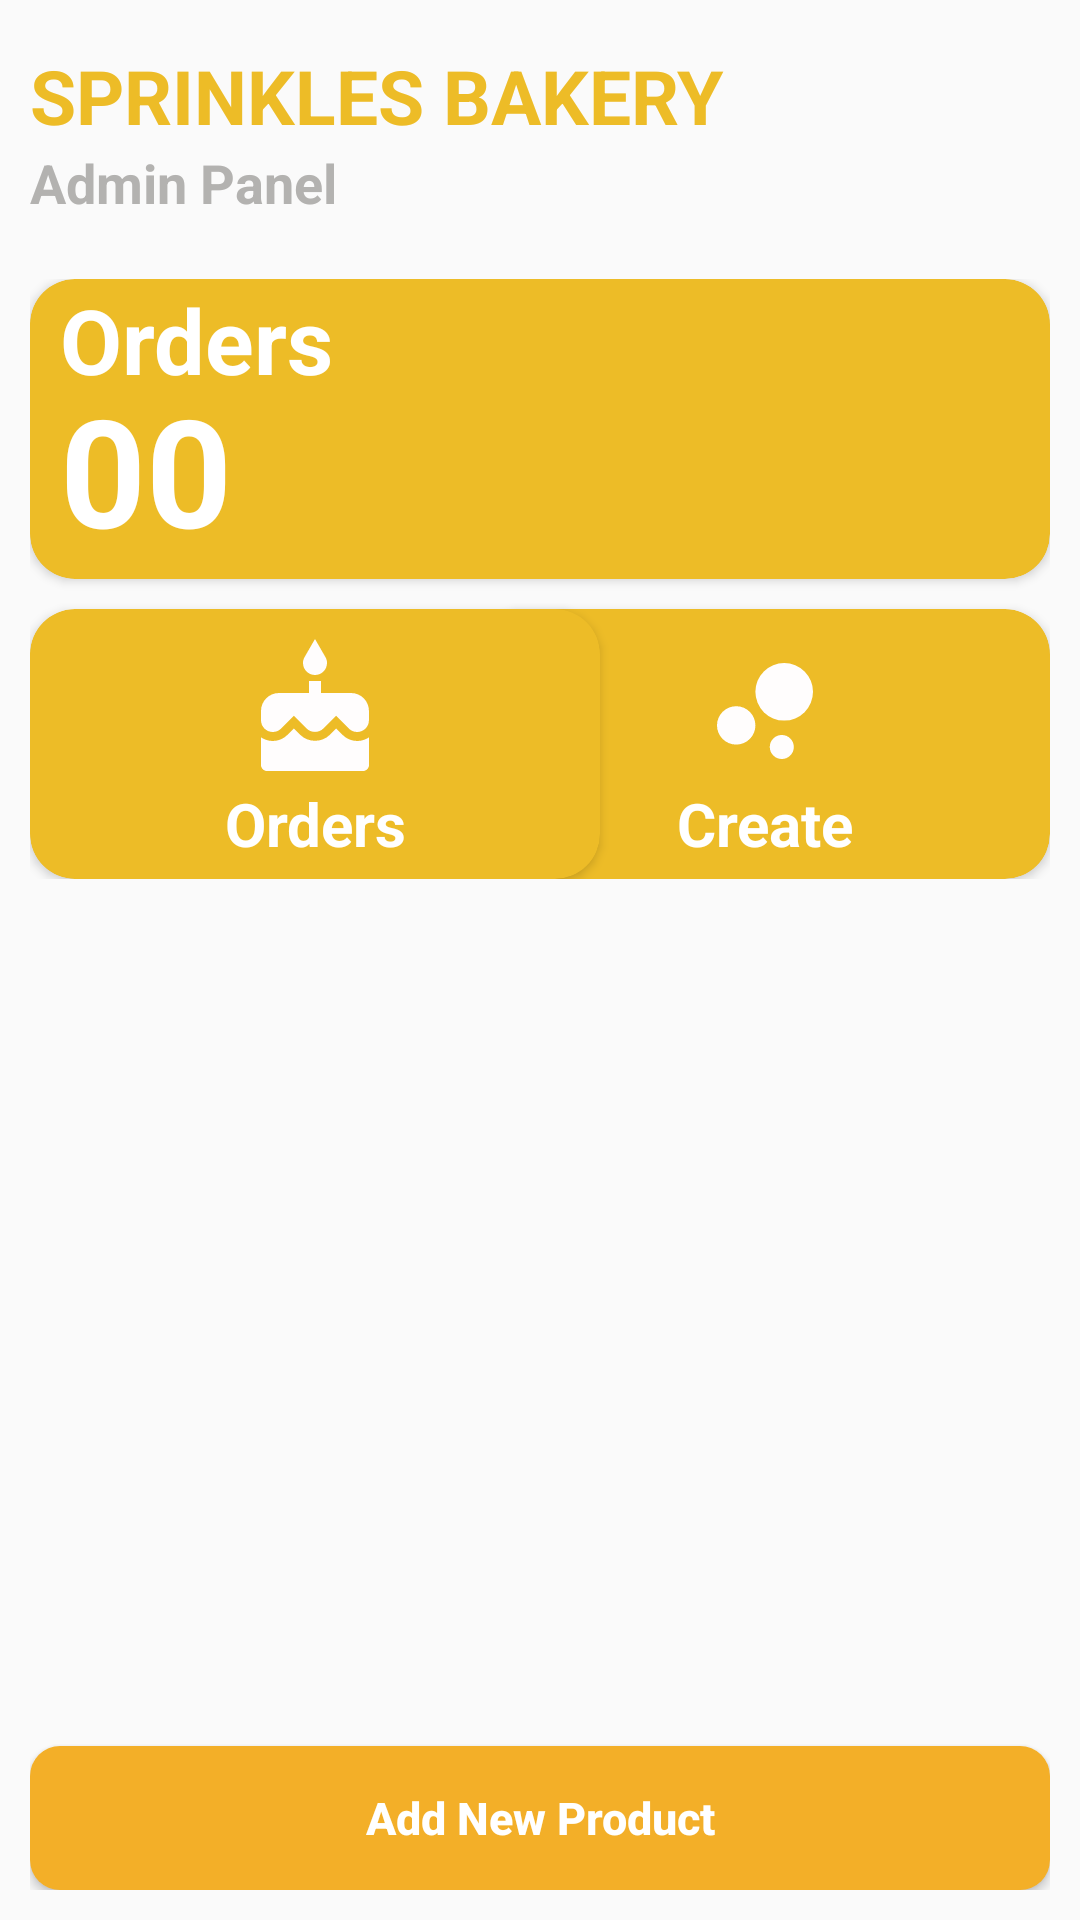

Point at icon controls on the screen. Image size 1080px×1920px, points as (x=x, y=y).
bubble: (x=765, y=711)
cake: (x=315, y=705)
